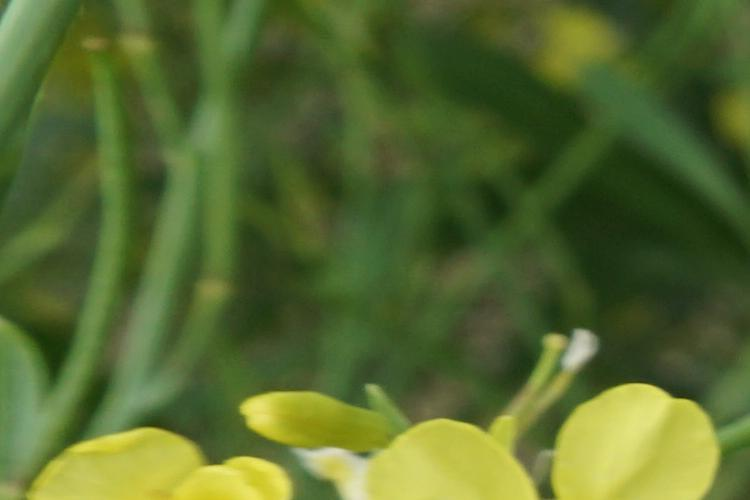bud: (244, 368, 424, 459)
yellow: (394, 386, 733, 500), (78, 410, 278, 497)
